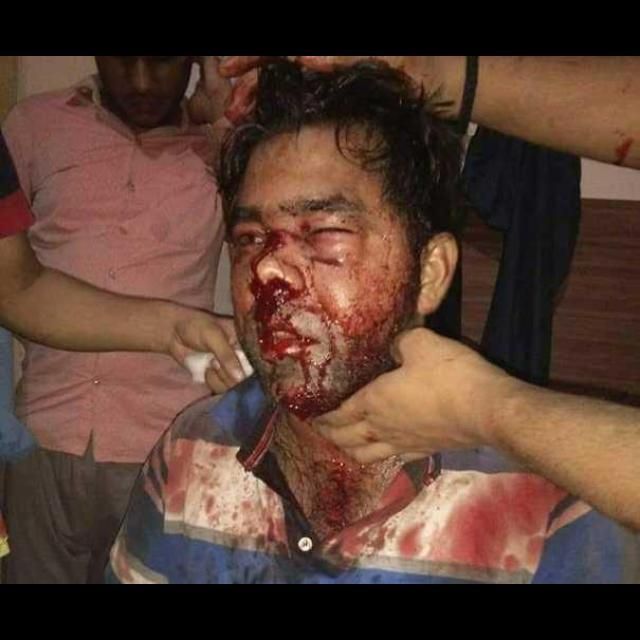blood: (232, 169, 416, 418), (435, 471, 561, 585), (319, 470, 420, 572), (300, 436, 381, 543), (145, 425, 195, 522), (389, 527, 425, 572)
